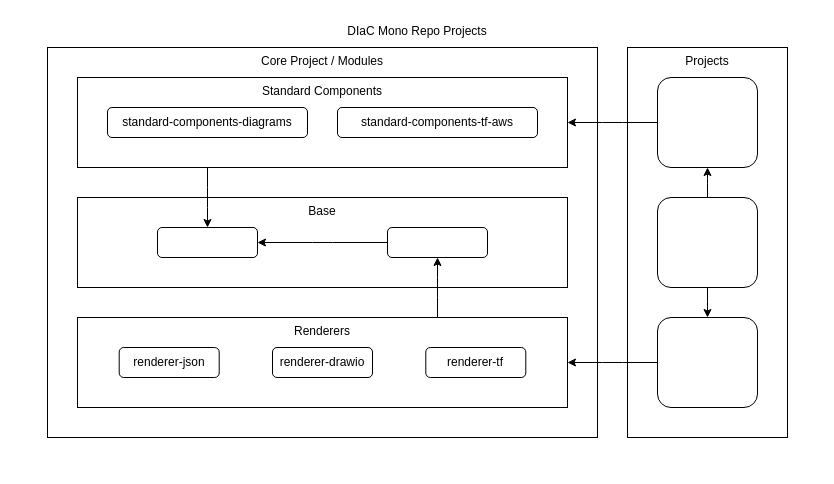
This 834x484 diagram has some shape labels left out. Here are the shapes that lost their labels. From the top down, the centre of each, then its label:
the point at 707,122: examples
the point at 207,242: base-components
the point at 437,242: base-renderer
the point at 707,242: cli
the point at 707,362: engine
